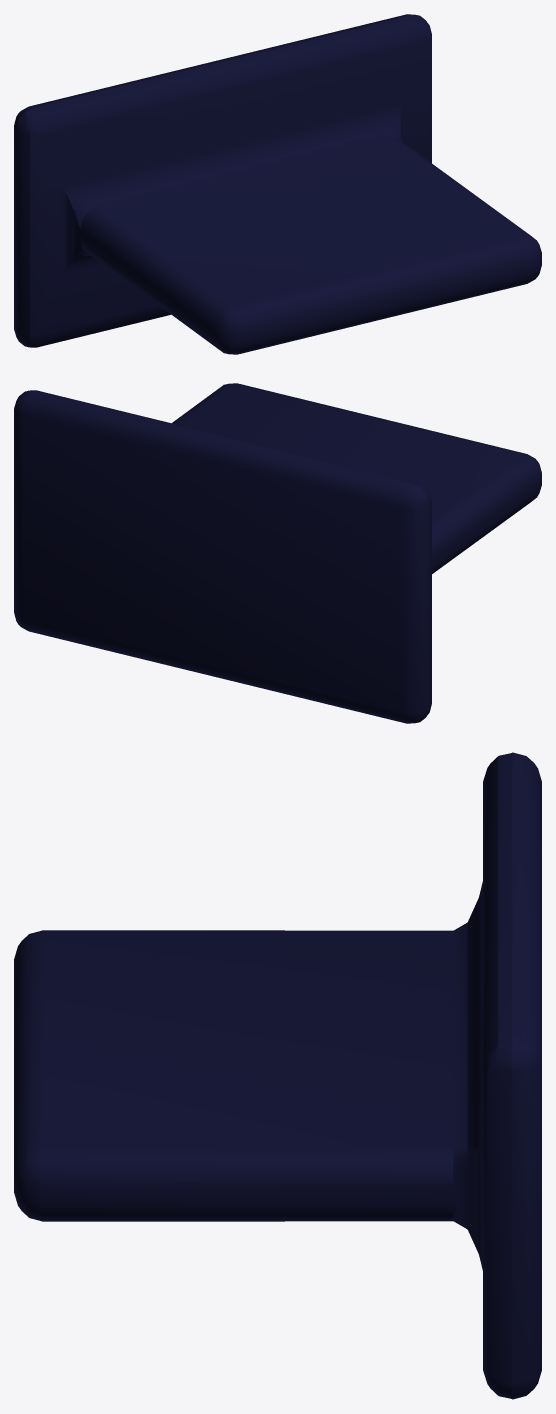
Rendered from ledge2.fbx.
3 renders of one model, top to bottom at view 1: azimuth 30°, elevation 25°; view 2: azimuth 150°, elevation 25°; view 3: azimuth 270°, elevation 25°, orthographic. The views are drawn at different scales.
Visible parts, largest first — view 1: Cube.100; view 2: Cube.100; view 3: Cube.100.
Part boxes in pixels (left/top/right/bottom): Cube.100: left=14, top=14, right=541, bottom=354; Cube.100: left=14, top=383, right=541, bottom=723; Cube.100: left=14, top=752, right=541, bottom=1399.
Bounding box in the file's own units: 29.79 × 16.51 × 21.82.
